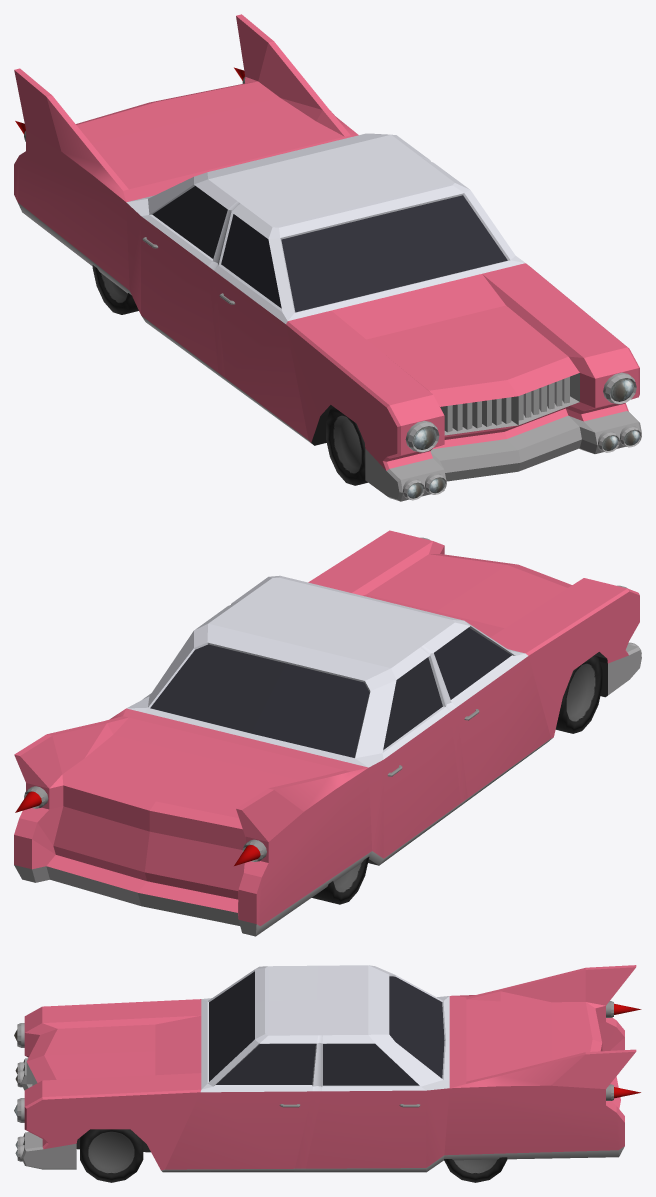
The model's file is Car.fbx.
3 renders of one model, top to bottom at view 1: azimuth 30°, elevation 25°; view 2: azimuth 150°, elevation 25°; view 3: azimuth 270°, elevation 25°, orthographic. The views are drawn at different scales.
Parts seen in each view (by area): view 1: Car; view 2: Car; view 3: Car.
Boxes of the visible parts, x1,y1,x2,y2 form: Car: (14, 14, 641, 501); Car: (14, 530, 641, 936); Car: (14, 965, 641, 1182).
Size of the model in its own units: 224 by 151 by 623.
